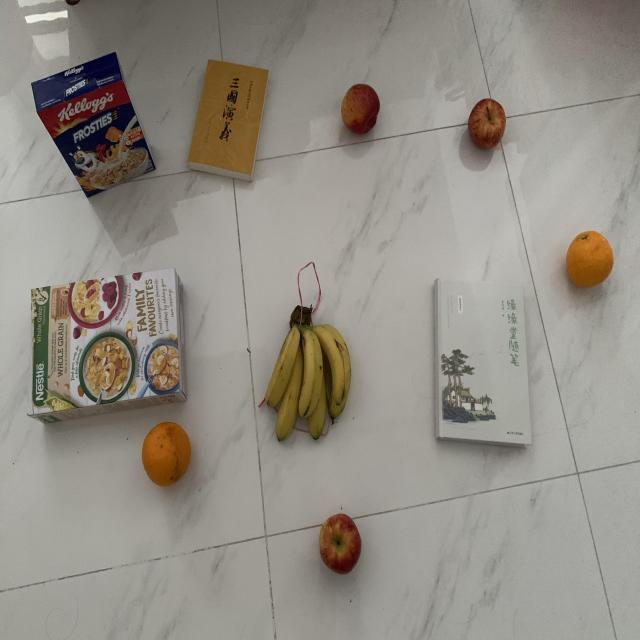apple: (318, 508, 360, 576), (466, 96, 507, 152), (341, 84, 384, 136)
banana: (262, 306, 354, 446)
orange: (136, 421, 194, 488), (564, 232, 618, 292)
